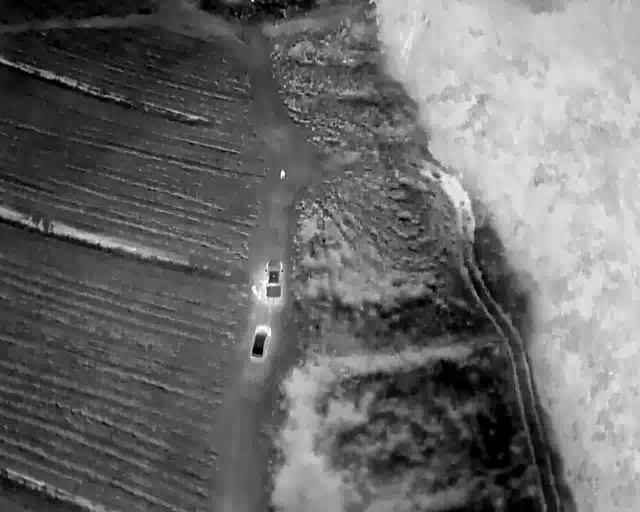car: (265, 259, 284, 300), (251, 324, 269, 359)
person: (259, 278, 266, 290), (279, 168, 286, 180), (251, 284, 257, 296), (256, 289, 262, 301)
